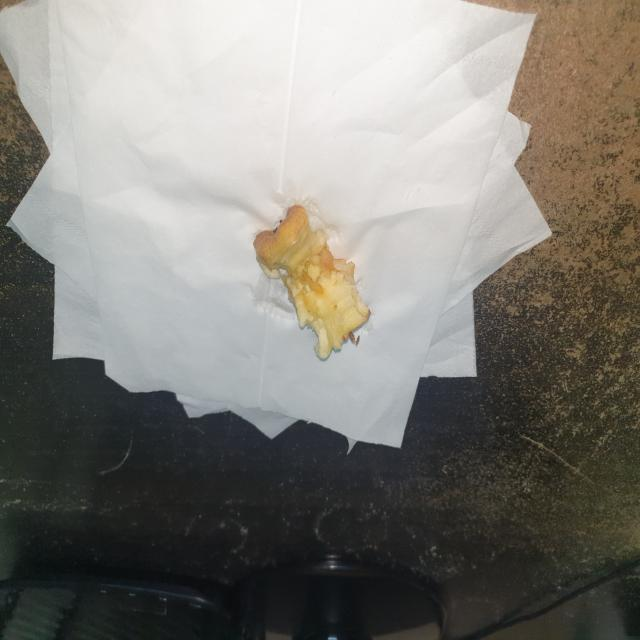apple: (255, 201, 370, 366)
